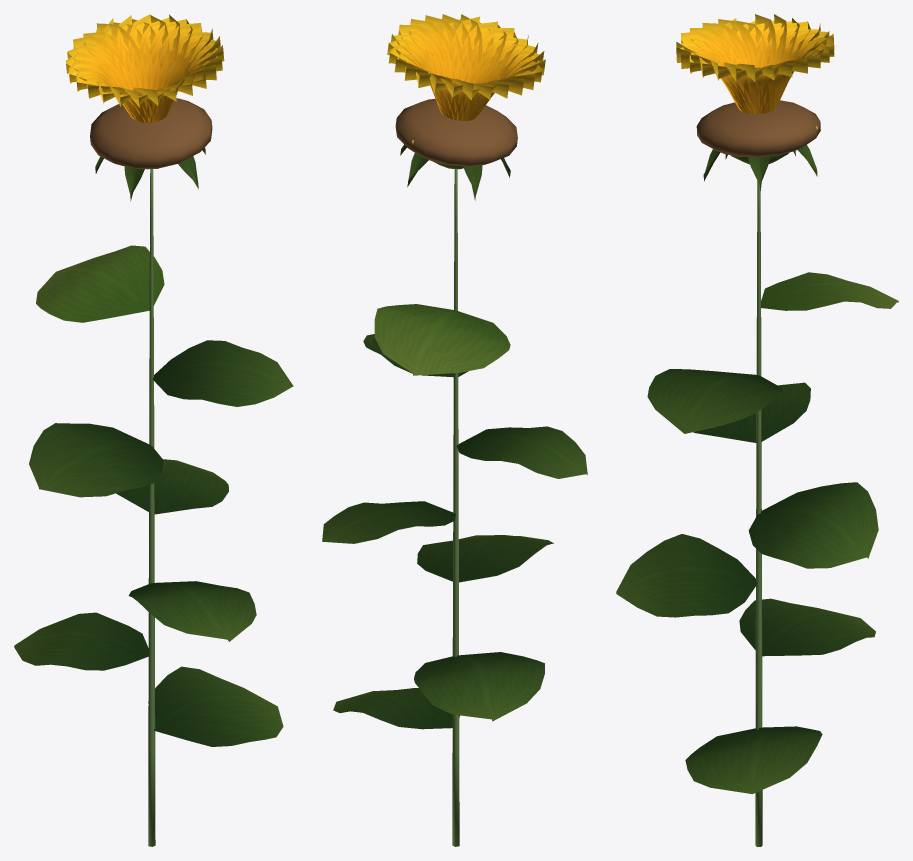
Rendered from sunflower-09-lod.glb.
3 views of the same model, side by side, from view 1: azimuth 30°, elevation 25°; view 2: azimuth 150°, elevation 25°; view 3: azimuth 270°, elevation 25° (orthographic).
Parts seen in each view (by area): view 1: sunflower_stage_09_leaf_veins.017, sunflower_stage_09_sunflower_petal.017, sunflower_stage_09_young_leaf.017, sunflower_stage_09_receptacle.017, sunflower_stage_09_stem_fibres.017; view 2: sunflower_stage_09_leaf_veins.017, sunflower_stage_09_sunflower_petal.017, sunflower_stage_09_young_leaf.017, sunflower_stage_09_receptacle.017, sunflower_stage_09_stem_fibres.017; view 3: sunflower_stage_09_leaf_veins.017, sunflower_stage_09_sunflower_petal.017, sunflower_stage_09_receptacle.017, sunflower_stage_09_young_leaf.017, sunflower_stage_09_stem_fibres.017.
Part boxes in pixels (x1,y1,x2,y2): sunflower_stage_09_leaf_veins.017: (14, 147, 293, 746); sunflower_stage_09_sunflower_petal.017: (66, 14, 224, 123); sunflower_stage_09_young_leaf.017: (36, 168, 164, 322); sunflower_stage_09_receptacle.017: (90, 98, 212, 168); sunflower_stage_09_stem_fibres.017: (148, 169, 155, 846); sunflower_stage_09_leaf_veins.017: (322, 144, 587, 729); sunflower_stage_09_sunflower_petal.017: (387, 14, 545, 121); sunflower_stage_09_young_leaf.017: (374, 161, 510, 375); sunflower_stage_09_receptacle.017: (395, 98, 517, 166); sunflower_stage_09_stem_fibres.017: (452, 169, 459, 846); sunflower_stage_09_leaf_veins.017: (616, 145, 878, 793); sunflower_stage_09_sunflower_petal.017: (676, 14, 834, 114); sunflower_stage_09_receptacle.017: (696, 100, 820, 157); sunflower_stage_09_young_leaf.017: (731, 153, 898, 310); sunflower_stage_09_stem_fibres.017: (755, 181, 762, 846).
Size of the model in its own units: 0.2869 by 0.8997 by 0.2847.
Materials: 6 (3 with a texture image).
